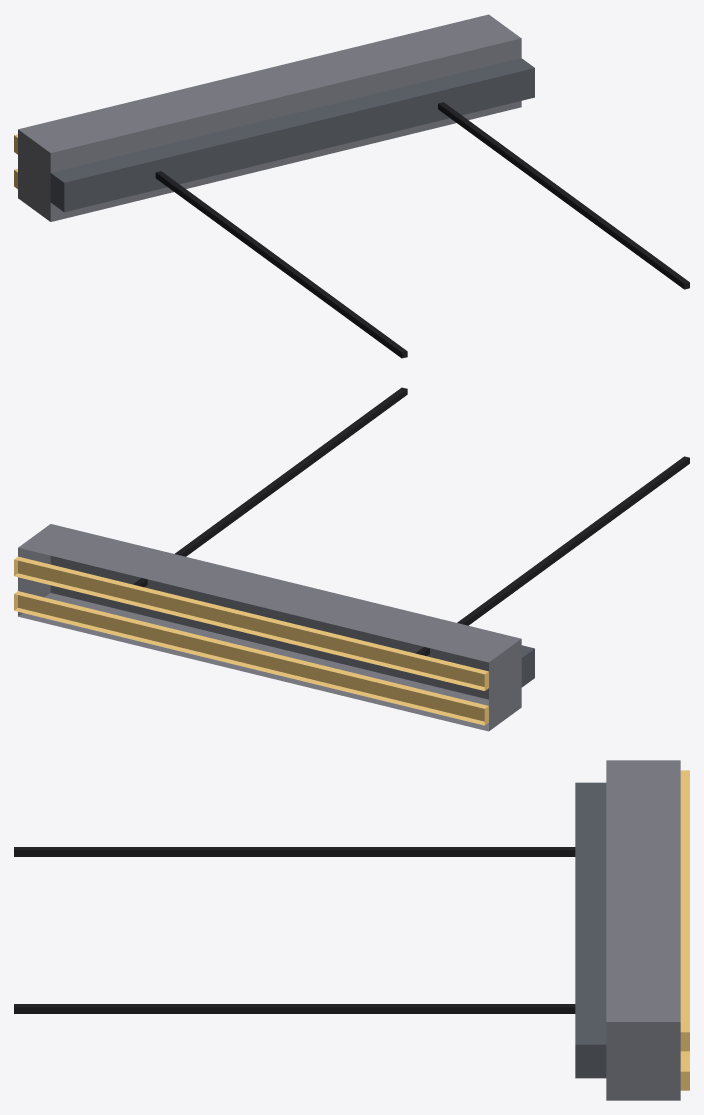
Rendered from b_lamp_large_pro_pn.obj.
3 views of the same model, one above another, from view 1: azimuth 30°, elevation 25°; view 2: azimuth 150°, elevation 25°; view 3: azimuth 270°, elevation 25° (orthographic). The views are drawn at different scales.
Bounding box in the file's own units: 1 × 0.14 × 1.09.
Materials: 1 (1 with a texture image).
